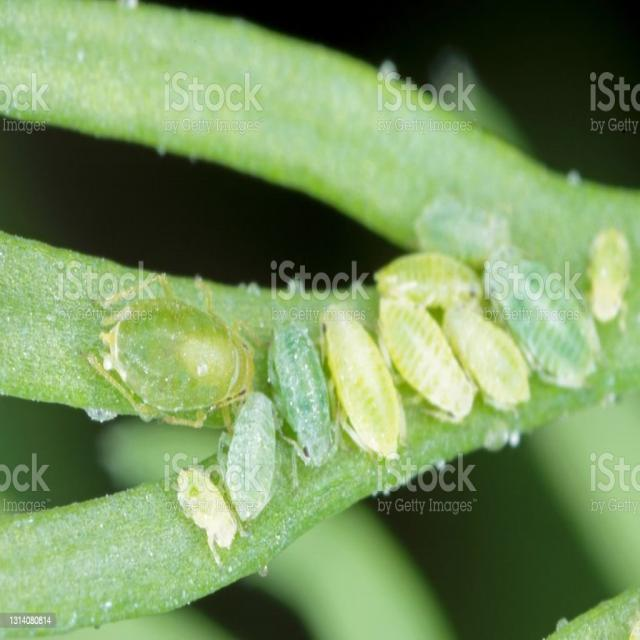Aphids: (72, 219, 639, 575)
